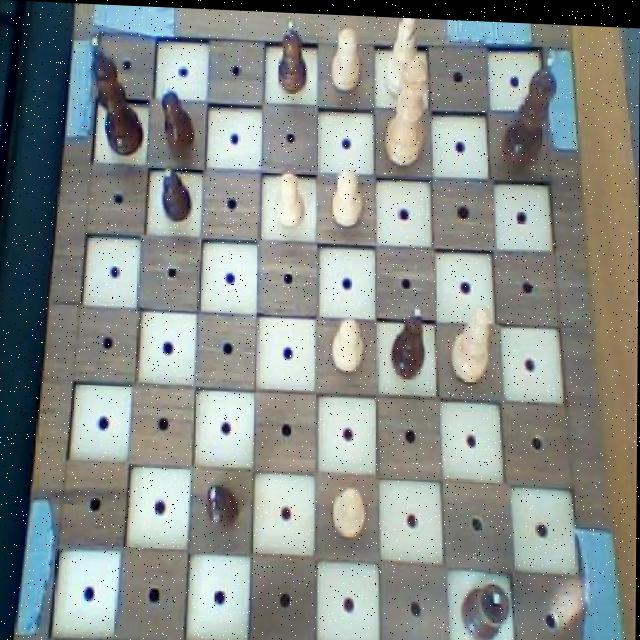bishop: (392, 296, 431, 378)
black-bishop: (88, 34, 146, 157)
black-knight: (158, 78, 198, 154), (276, 16, 311, 97), (159, 164, 193, 226), (206, 480, 241, 534)
black-pawn: (499, 50, 558, 171)
black-queen: (458, 574, 514, 640)
black-rook: (378, 13, 424, 100), (447, 297, 494, 382)
white-bishop: (379, 49, 429, 166)
white-knight: (328, 478, 371, 542), (329, 19, 363, 93), (272, 165, 308, 230), (331, 162, 365, 229), (331, 310, 367, 371)
